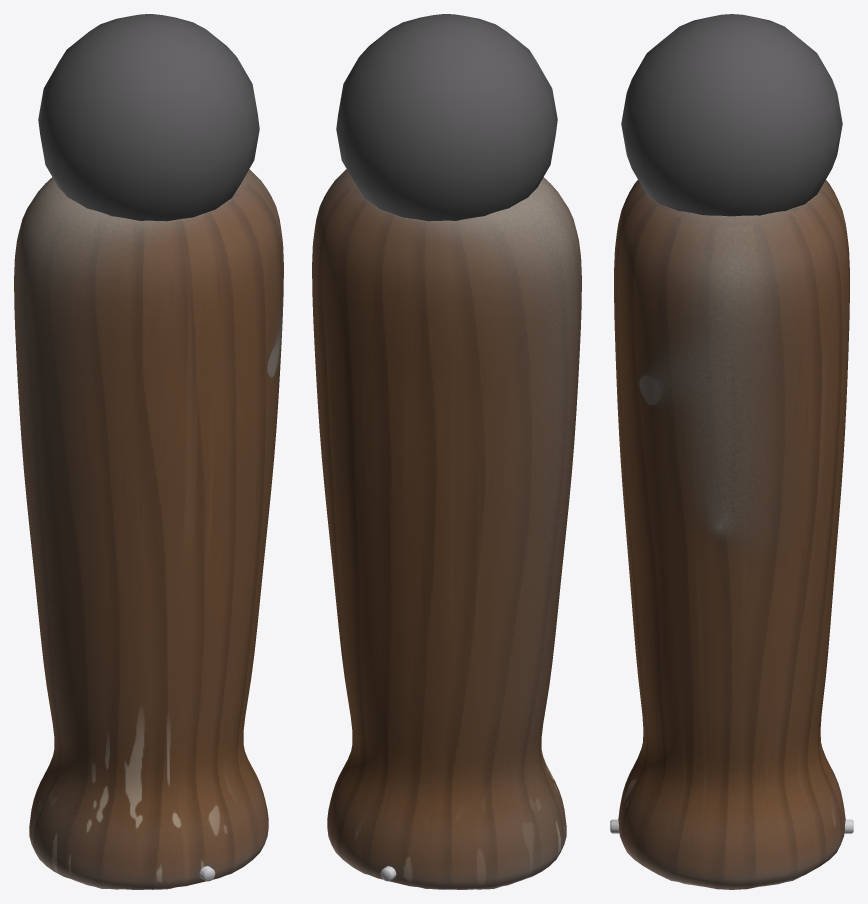
File: UpperLeg_L.glb
The picture shows the model from 3 angles, left to right: view 1: azimuth 30°, elevation 25°; view 2: azimuth 150°, elevation 25°; view 3: azimuth 270°, elevation 25°; orthographic projection.
Parts seen in each view (by area): view 1: UpperLeg_L, UpperLeg_L_Ball; view 2: UpperLeg_L, UpperLeg_L_Ball; view 3: UpperLeg_L, UpperLeg_L_Ball.
Boxes of the visible parts, x1,y1,x2,y2 form: UpperLeg_L: [14, 169, 283, 889]; UpperLeg_L_Ball: [38, 14, 259, 221]; UpperLeg_L: [312, 169, 581, 889]; UpperLeg_L_Ball: [336, 14, 557, 221]; UpperLeg_L: [614, 180, 849, 889]; UpperLeg_L_Ball: [621, 14, 842, 216].
Size of the model in its own units: 0.1509 by 0.4905 by 0.132.
Materials: 3 (1 with a texture image).
